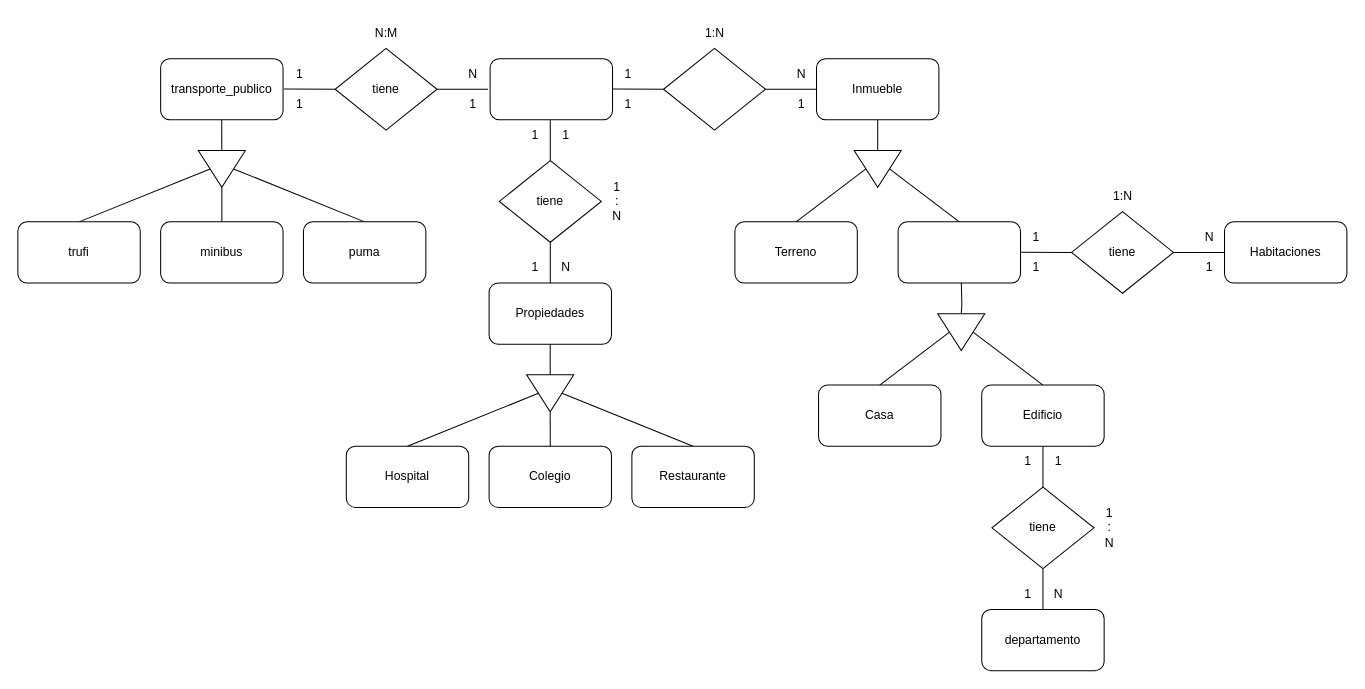
Some shapes in this 1365 by 689 pixel diagram are drawn without their labels. Each missing label, with the centre of its shape:
"esta" belongs at (714,88).
"Vivienda" belongs at (959,252).
"Zona" belongs at (551,89).
